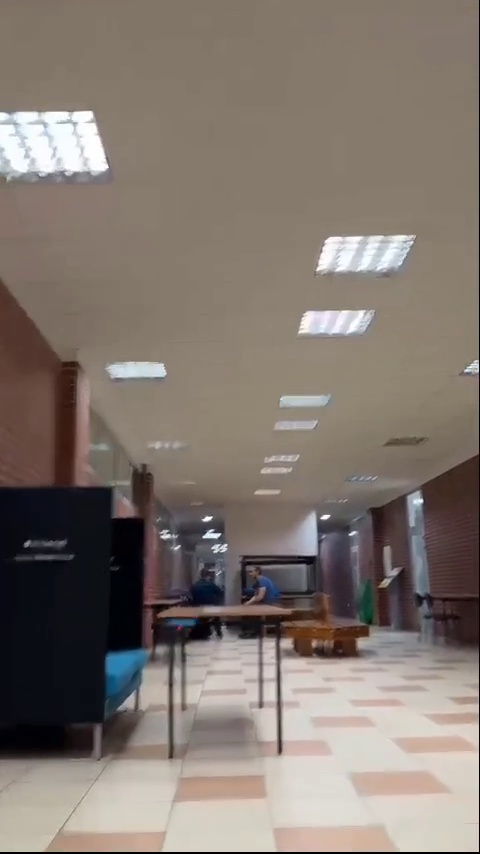drone: (163, 619, 198, 634)
no vest: (192, 570, 223, 608), (247, 562, 275, 601)
